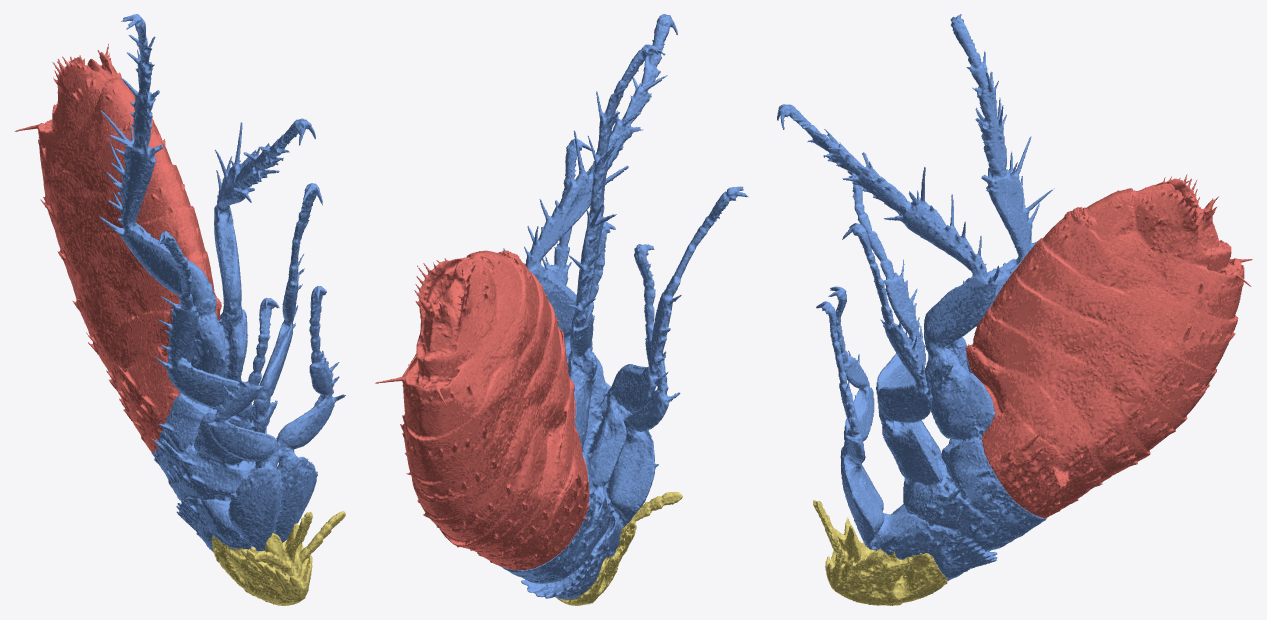
The model's file is 20Siphonaptera.glb.
3 views of the same model, side by side, from view 1: azimuth 30°, elevation 25°; view 2: azimuth 150°, elevation 25°; view 3: azimuth 270°, elevation 25° (orthographic). The views are drawn at different scales.
Visible parts, largest first — view 1: 20-Siphonaptera_OPRSJE_dec075, 20-Siphonaptera_ZADEK_dec075, 20-Siphonaptera_GLAVA_dec075; view 2: 20-Siphonaptera_ZADEK_dec075, 20-Siphonaptera_OPRSJE_dec075, 20-Siphonaptera_GLAVA_dec075; view 3: 20-Siphonaptera_ZADEK_dec075, 20-Siphonaptera_OPRSJE_dec075, 20-Siphonaptera_GLAVA_dec075.
Boxes of the visible parts, x1=… form: 20-Siphonaptera_OPRSJE_dec075: x1=99, y1=14, x2=345, y2=551; 20-Siphonaptera_ZADEK_dec075: x1=14, y1=43, x2=221, y2=452; 20-Siphonaptera_GLAVA_dec075: x1=212, y1=511, x2=345, y2=605; 20-Siphonaptera_ZADEK_dec075: x1=375, y1=250, x2=589, y2=570; 20-Siphonaptera_OPRSJE_dec075: x1=500, y1=14, x2=748, y2=599; 20-Siphonaptera_GLAVA_dec075: x1=555, y1=492, x2=682, y2=605; 20-Siphonaptera_ZADEK_dec075: x1=965, y1=174, x2=1252, y2=518; 20-Siphonaptera_OPRSJE_dec075: x1=777, y1=14, x2=1054, y2=580; 20-Siphonaptera_GLAVA_dec075: x1=813, y1=500, x2=947, y2=605.
Bounding box in the file's own units: 1.05 × 3.09 × 2.45.
